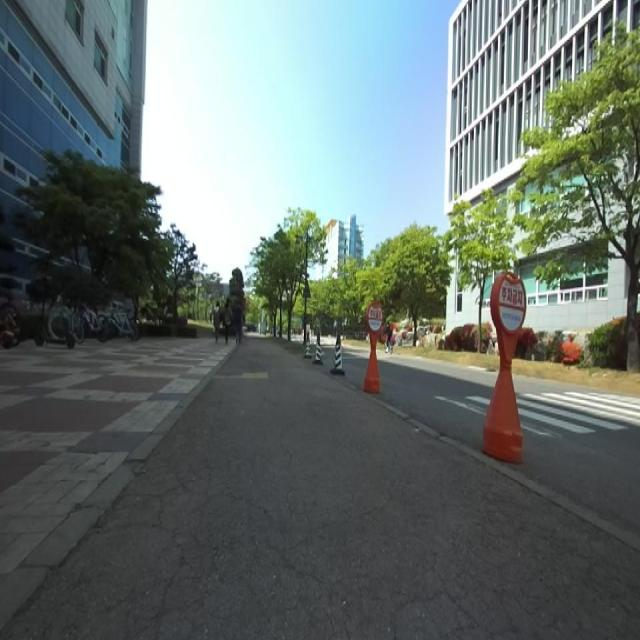sidewalk: (2, 339, 640, 639)
